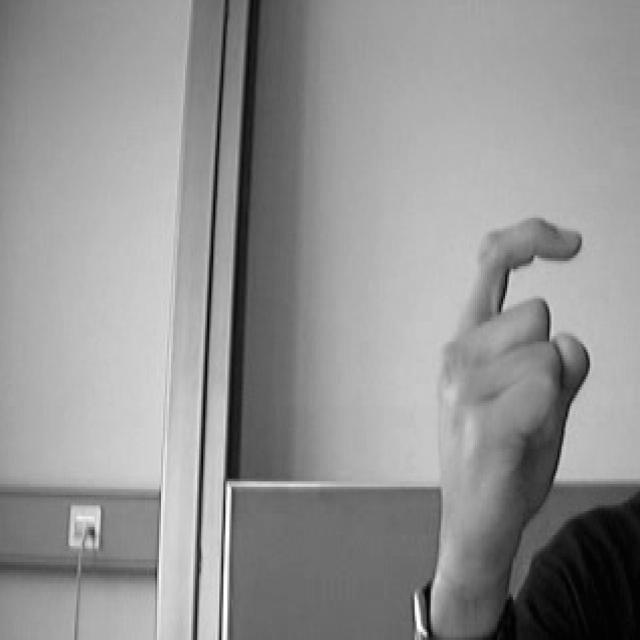X: (432, 194, 600, 555)
